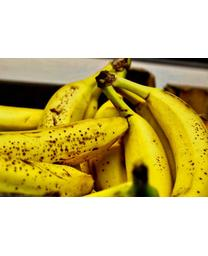banana: (0, 62, 206, 195)
